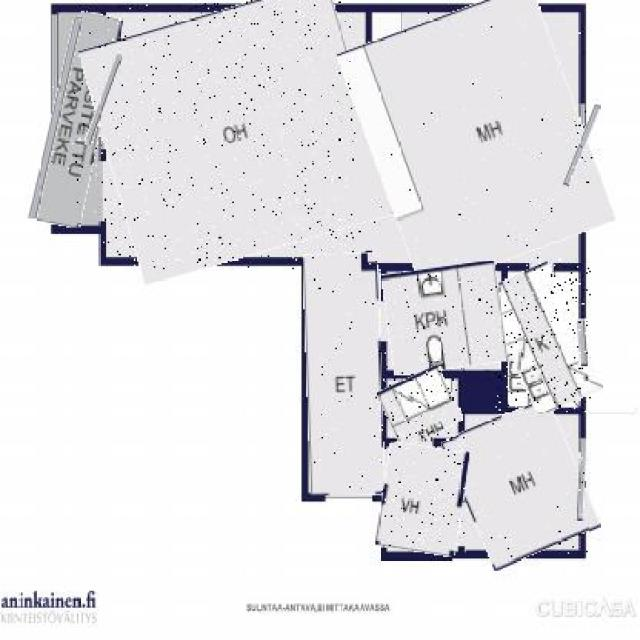window: (40, 15, 69, 220), (92, 52, 114, 148), (571, 104, 592, 188), (577, 440, 586, 520), (578, 319, 588, 366)
zone: (92, 0, 380, 269), (354, 0, 597, 274), (452, 406, 590, 563), (306, 254, 383, 495), (495, 265, 591, 412), (48, 11, 112, 228), (384, 265, 504, 372), (380, 444, 466, 556), (382, 371, 458, 442)
